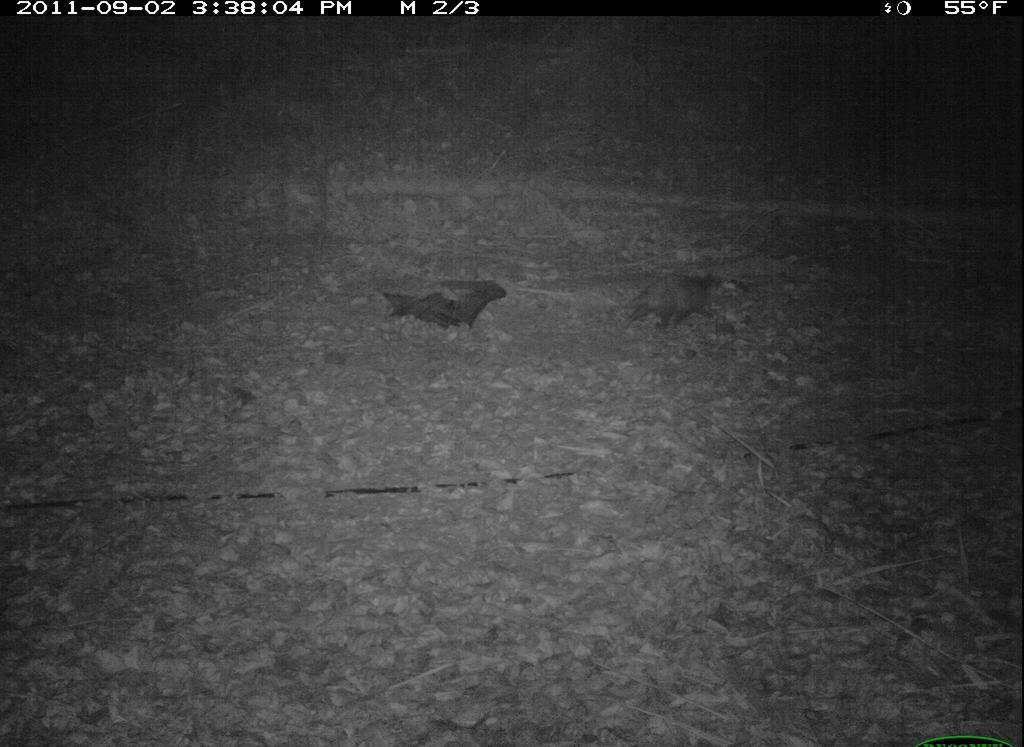opossum: (615, 267, 731, 344)
